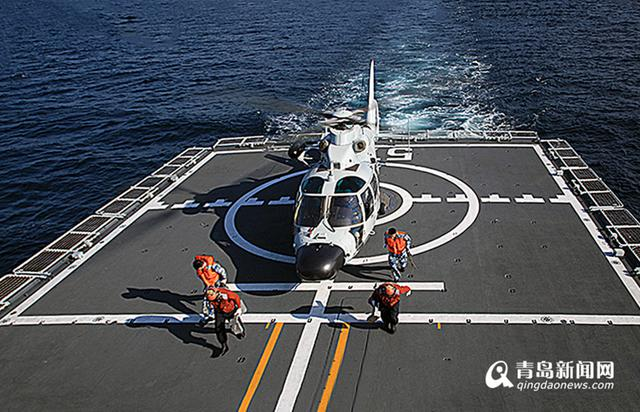Apron: (223, 162, 480, 266)
